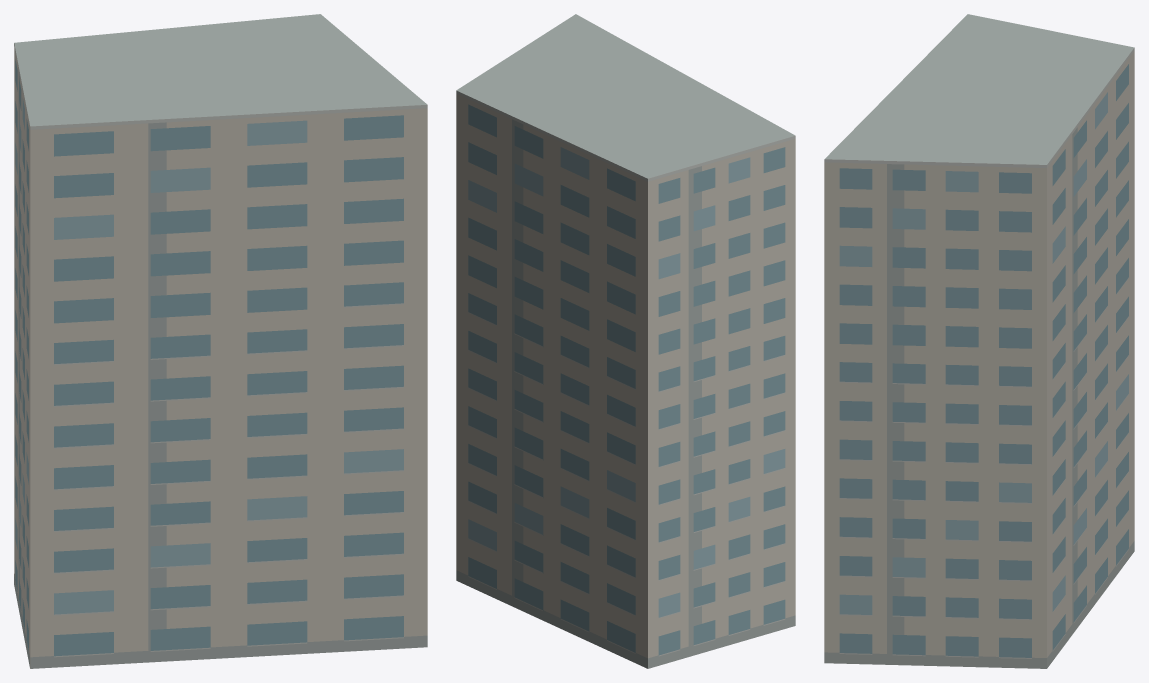
Rendered from residential-b7b530c1-f857-4a7c-8710-73bfa0af51bf.glb.
The picture shows the model from 3 angles, left to right: view 1: azimuth 30°, elevation 25°; view 2: azimuth 150°, elevation 25°; view 3: azimuth 270°, elevation 25°; orthographic projection. The views are drawn at different scales.
Visible parts, largest first — view 1: residential-b7b530c1-f857-4a7c-8710-73bfa0af51bf.tmp; view 2: residential-b7b530c1-f857-4a7c-8710-73bfa0af51bf.tmp; view 3: residential-b7b530c1-f857-4a7c-8710-73bfa0af51bf.tmp.
Boxes of the visible parts, left/top/right/bottom form: residential-b7b530c1-f857-4a7c-8710-73bfa0af51bf.tmp: left=14, top=14, right=427, bottom=668; residential-b7b530c1-f857-4a7c-8710-73bfa0af51bf.tmp: left=456, top=14, right=795, bottom=668; residential-b7b530c1-f857-4a7c-8710-73bfa0af51bf.tmp: left=824, top=14, right=1134, bottom=668.
Bounding box in the file's own units: 25.07 × 39 × 21.76.
